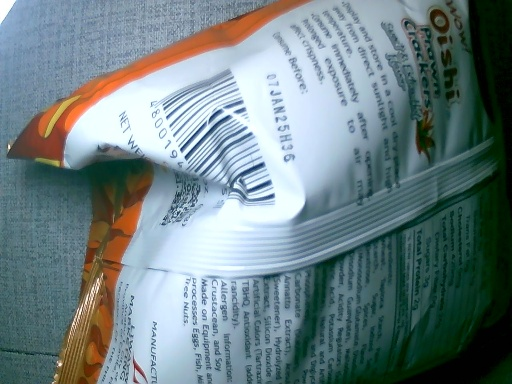plastic: (31, 5, 498, 384)
